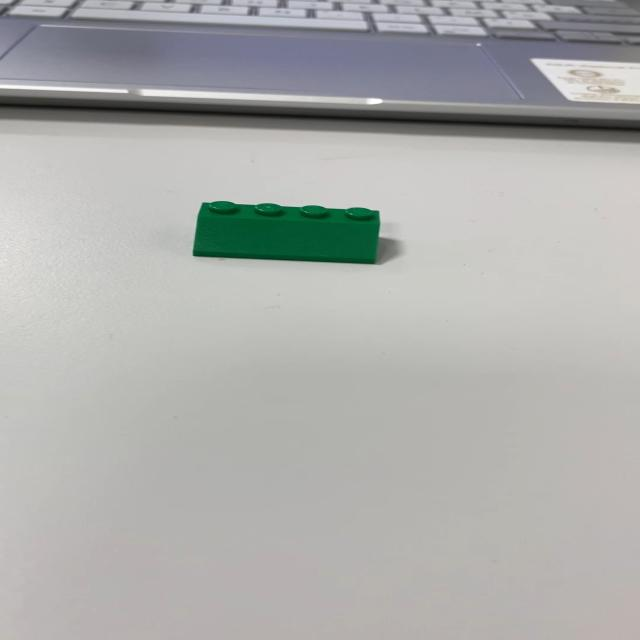P4x2x1: (191, 200, 381, 265)
